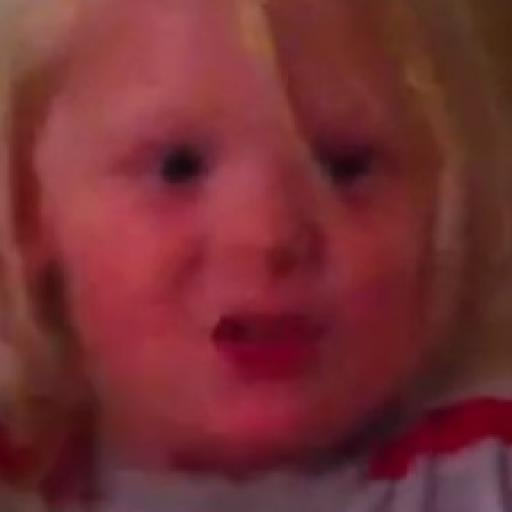Autism: (52, 15, 471, 457)
